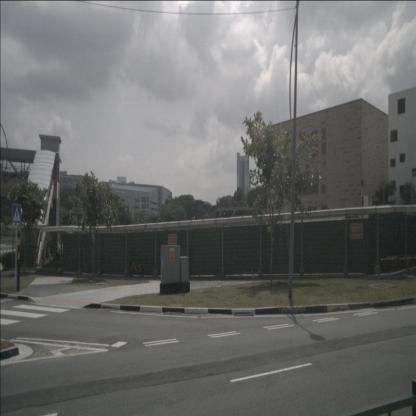vehicle-bicycle: (128, 256, 146, 276)
